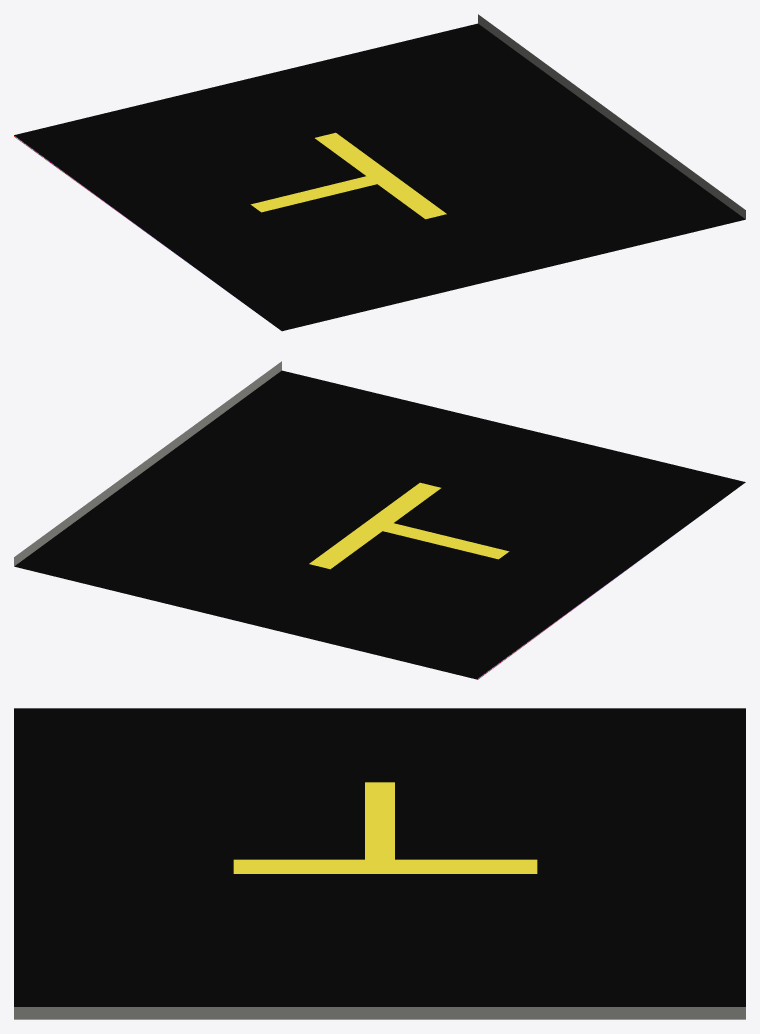
File: lp-rua-T.gltf
The picture shows the model from 3 angles, top to bottom: view 1: azimuth 30°, elevation 25°; view 2: azimuth 150°, elevation 25°; view 3: azimuth 270°, elevation 25°; orthographic projection. The views are drawn at different scales.
Parts seen in each view (by area): view 1: rua.005; view 2: rua.005; view 3: rua.005.
Boxes of the visible parts, bbox=[...] form: rua.005: bbox=[14, 14, 745, 331]; rua.005: bbox=[14, 361, 745, 679]; rua.005: bbox=[14, 708, 745, 1019].
Bounding box in the file's own units: 4 × 0.0771 × 4.
Materials: 2 (2 with a texture image).
